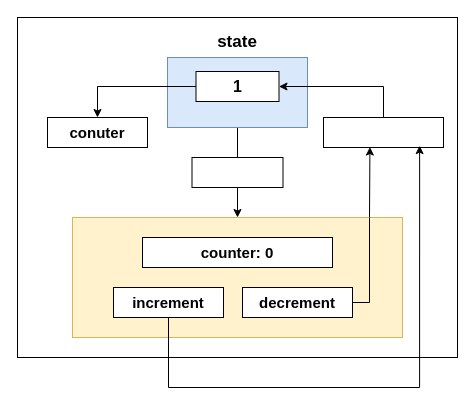
The diagram is 475 pixels wide and 413 high, and some of its shapes have lost their labels. The shapes that lost their labels are listed below. From the top down, each one's centre as x and y in pixels, then its label:
the point at 383,132: setCounter()
the point at 237,172: re-render UI
